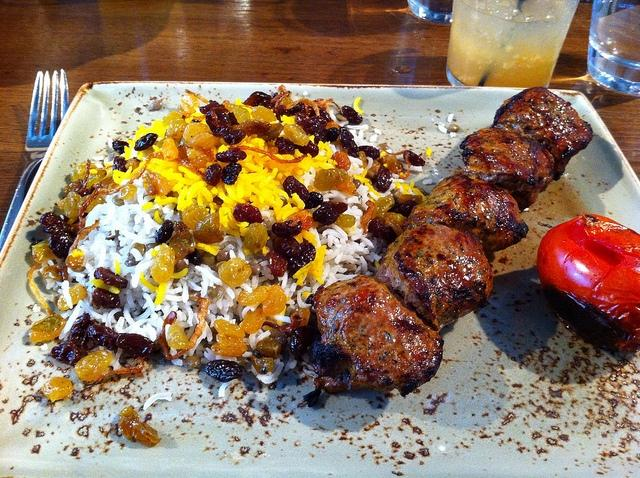tomato: (536, 213, 640, 354)
